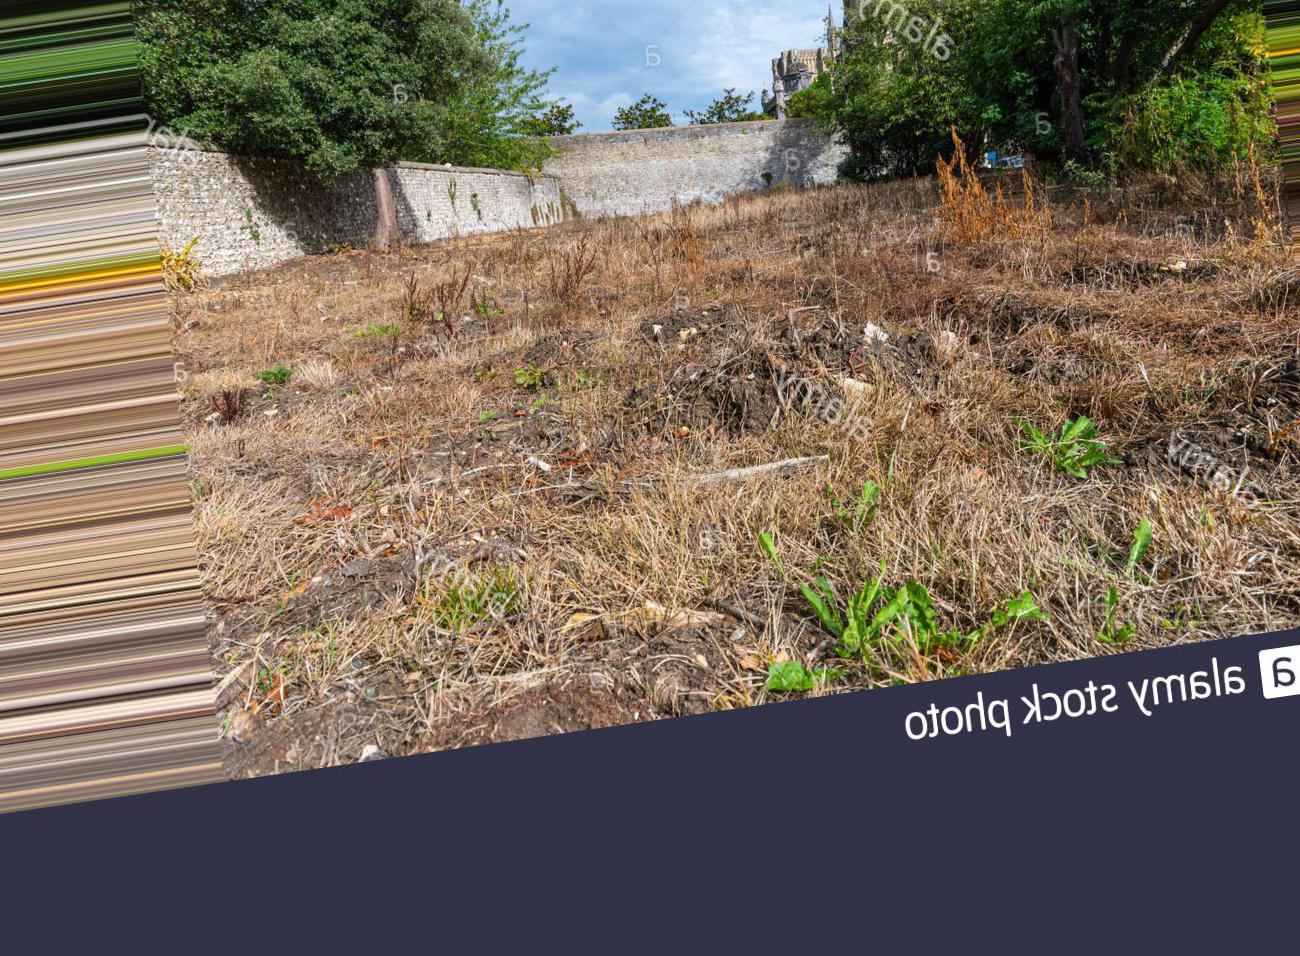patch: (213, 292, 647, 660), (683, 221, 976, 353), (708, 414, 1081, 494), (1049, 292, 1200, 360), (264, 680, 430, 743), (488, 670, 630, 726), (513, 221, 637, 280)
